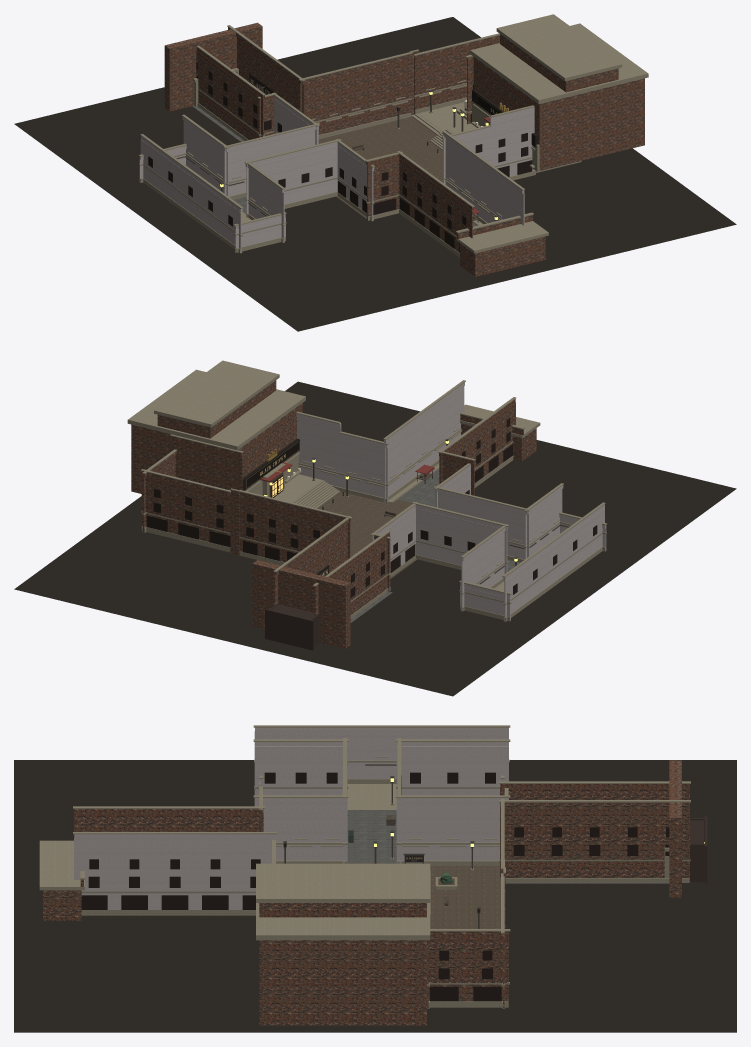
Rendered from black-crown.glb.
3 views of the same model, one above another, from view 1: azimuth 30°, elevation 25°; view 2: azimuth 150°, elevation 25°; view 3: azimuth 270°, elevation 25° (orthographic). The views are drawn at different scales.
Parts seen in each view (by area): view 1: bake:plain:plain:#2b2723:1.00:0.00:None, bake:brick_wall_001:brick:#7d6154, bake:concrete_wall_007:concrete:#8a8478, bake:painted_plaster_wall:plaster:#a89a83, bake:brick_wall_001:brick:#5d4a45, bake:painted_plaster_wall:render:#b7a88e, bake:herringbone_pavement:paving, bake:plain:plain:#241d18:1.00:0.00:None; view 2: bake:plain:plain:#2b2723:1.00:0.00:None, bake:concrete_wall_007:concrete:#8a8478, bake:brick_wall_001:brick:#7d6154, bake:painted_plaster_wall:plaster:#a89a83, bake:brick_wall_001:brick:#5d4a45, bake:painted_plaster_wall:render:#b7a88e, bake:plain:plain:#241d18:1.00:0.00:None, bake:herringbone_pavement:paving, bake:plain:plain:#3a2f28:1.00:0.00:None, bake:asphalt_02:asphalt, bake:picture:sign-black-crown; view 3: bake:plain:plain:#2b2723:1.00:0.00:None, bake:brick_wall_001:brick:#7d6154, bake:concrete_wall_007:concrete:#8a8478, bake:painted_plaster_wall:render:#b7a88e, bake:brick_wall_001:brick:#5d4a45, bake:painted_plaster_wall:plaster:#a89a83, bake:plain:plain:#241d18:1.00:0.00:None, bake:herringbone_pavement:paving, bake:asphalt_02:asphalt, bake:concrete_wall_007:concrete:#7e7a72, bake:plain:plain:#3a2f28:1.00:0.00:None.
Boxes of the visible parts, box(x1,y1,x2,y2) form: bake:plain:plain:#2b2723:1.00:0.00:None: box(14, 17, 736, 331); bake:brick_wall_001:brick:#7d6154: box(164, 22, 644, 252); bake:concrete_wall_007:concrete:#8a8478: box(138, 14, 648, 257); bake:painted_plaster_wall:plaster:#a89a83: box(139, 117, 337, 253); bake:brick_wall_001:brick:#5d4a45: box(228, 27, 545, 276); bake:painted_plaster_wall:render:#b7a88e: box(274, 96, 534, 225); bake:herringbone_pavement:paving: box(318, 116, 442, 218); bake:plain:plain:#241d18:1.00:0.00:None: box(148, 62, 532, 252); bake:plain:plain:#2b2723:1.00:0.00:None: box(14, 381, 736, 696); bake:concrete_wall_007:concrete:#8a8478: box(127, 360, 606, 621); bake:brick_wall_001:brick:#7d6154: box(131, 380, 515, 648); bake:painted_plaster_wall:plaster:#a89a83: box(415, 485, 606, 621); bake:brick_wall_001:brick:#5d4a45: box(141, 414, 536, 605); bake:painted_plaster_wall:render:#b7a88e: box(296, 382, 470, 571); bake:plain:plain:#241d18:1.00:0.00:None: box(147, 418, 597, 597); bake:herringbone_pavement:paving: box(317, 491, 417, 578); bake:plain:plain:#3a2f28:1.00:0.00:None: box(265, 603, 320, 650); bake:asphalt_02:asphalt: box(350, 469, 519, 622); bake:picture:sign-black-crown: box(246, 441, 299, 488); bake:plain:plain:#2b2723:1.00:0.00:None: box(14, 760, 736, 1032); bake:brick_wall_001:brick:#7d6154: box(74, 760, 689, 1025); bake:concrete_wall_007:concrete:#8a8478: box(39, 725, 690, 1008); bake:painted_plaster_wall:render:#b7a88e: box(74, 798, 508, 909); bake:brick_wall_001:brick:#5d4a45: box(43, 802, 689, 1007); bake:painted_plaster_wall:plaster:#a89a83: box(254, 727, 508, 863); bake:plain:plain:#241d18:1.00:0.00:None: box(81, 772, 669, 1001); bake:herringbone_pavement:paving: box(348, 863, 500, 928); bake:asphalt_02:asphalt: box(347, 810, 669, 883); bake:concrete_wall_007:concrete:#7e7a72: box(347, 784, 396, 809); bake:plain:plain:#3a2f28:1.00:0.00:None: box(690, 816, 707, 883).
Size of the model in its own units: 102 by 20.97 by 112.
Materials: 39 (9 with a texture image).
